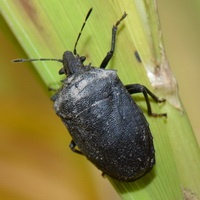insect: (13, 8, 166, 180)
